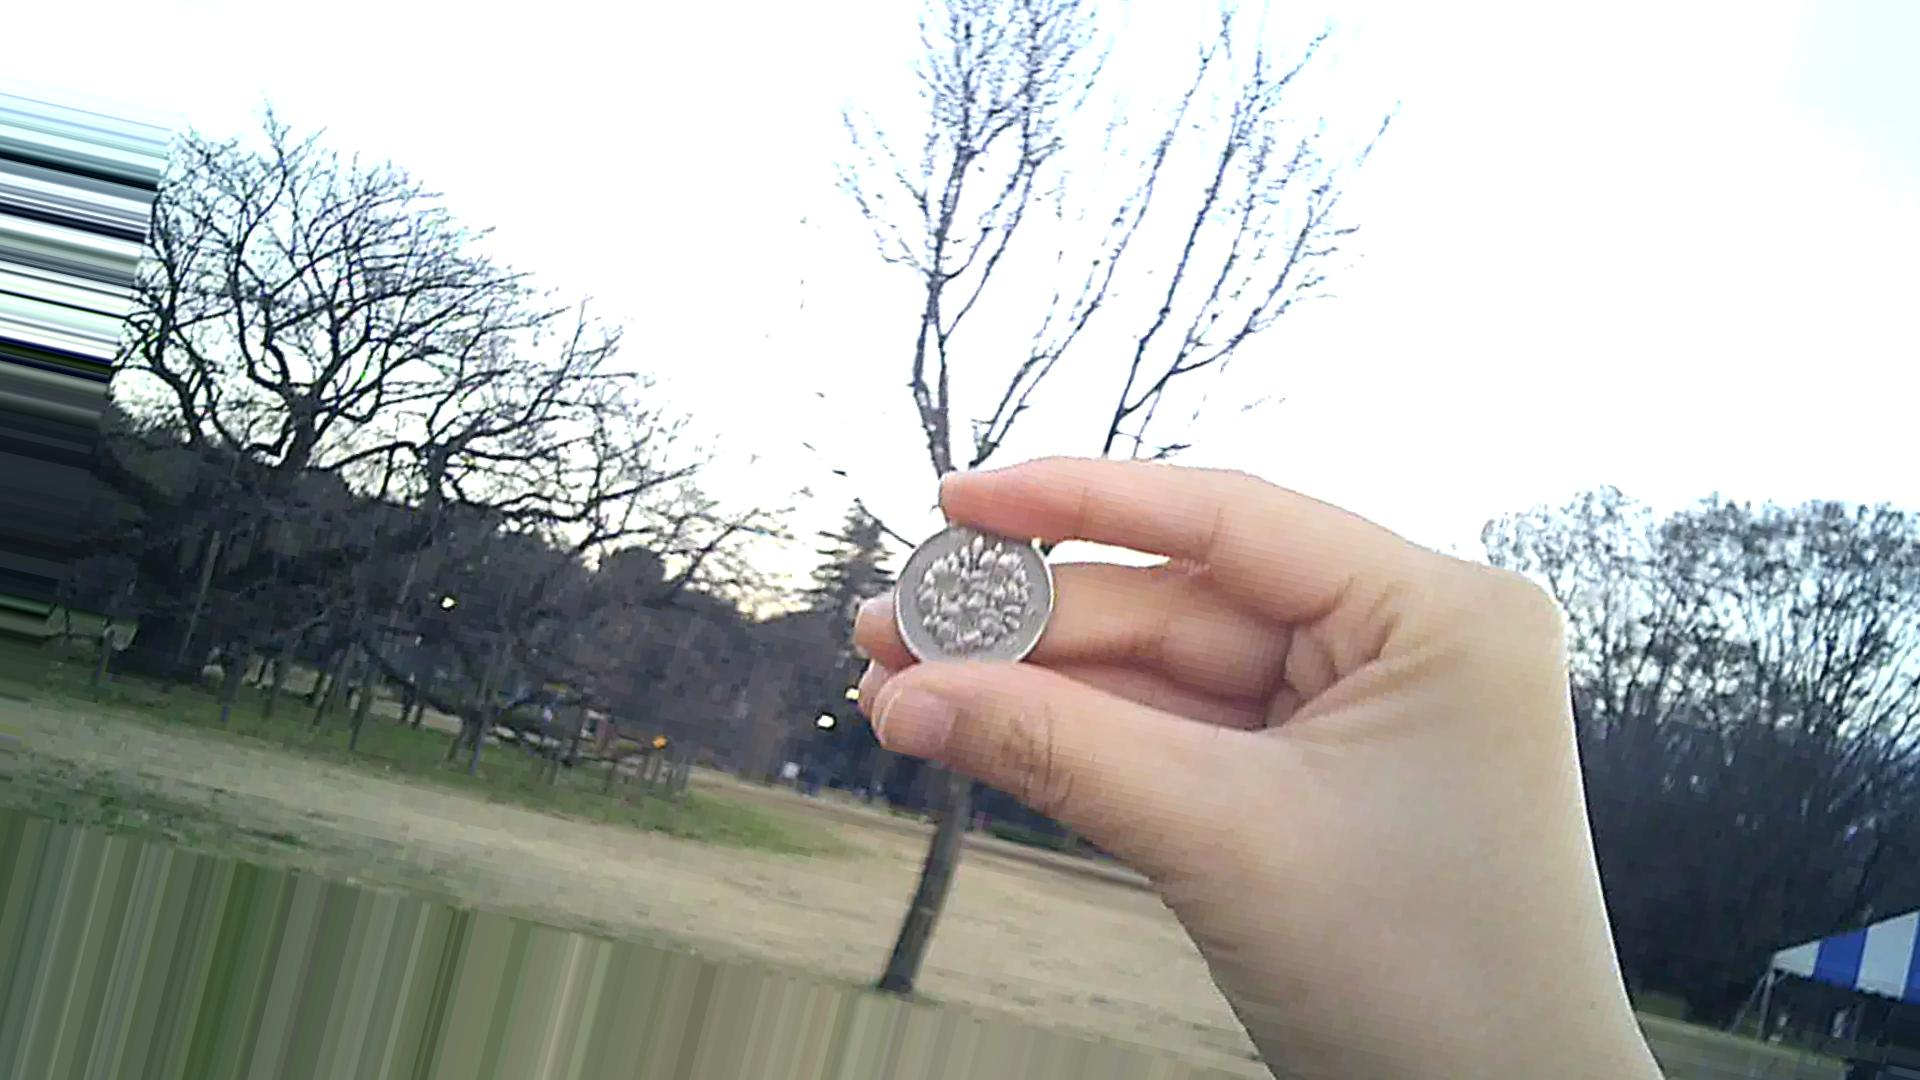100 Yen: (866, 510, 1052, 680)
